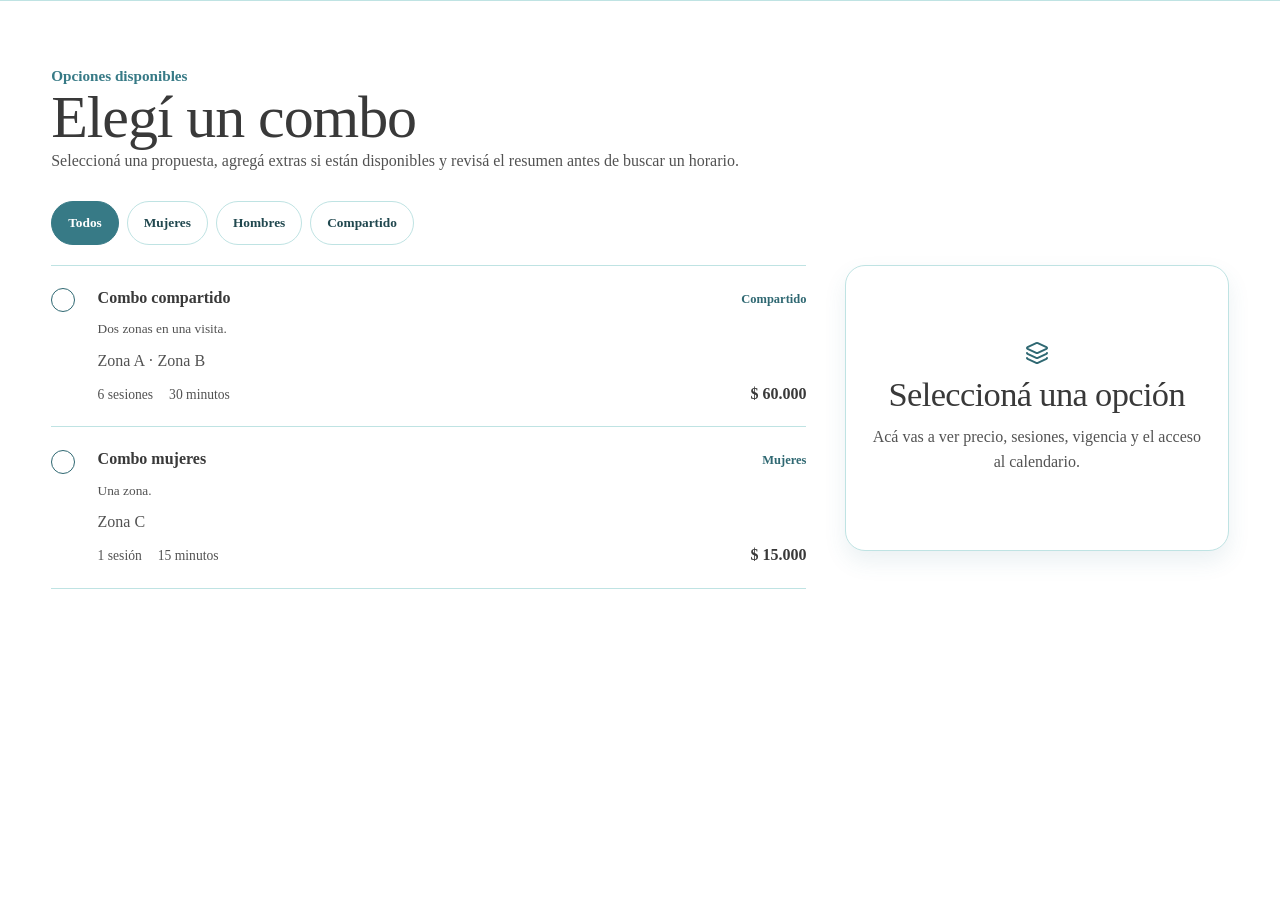
Test: TreatmentComboSelector › filters one unified list and requires one closed combo
The image size is (1280, 900).
Expected: the text "Combo compartido" is shown, [98,286,230,310]
Expected: the text "Combo mujeres" is shown, [98,447,206,472]
Click the button "Compartido". click: click(362, 223)
box: [310,201,414,245]
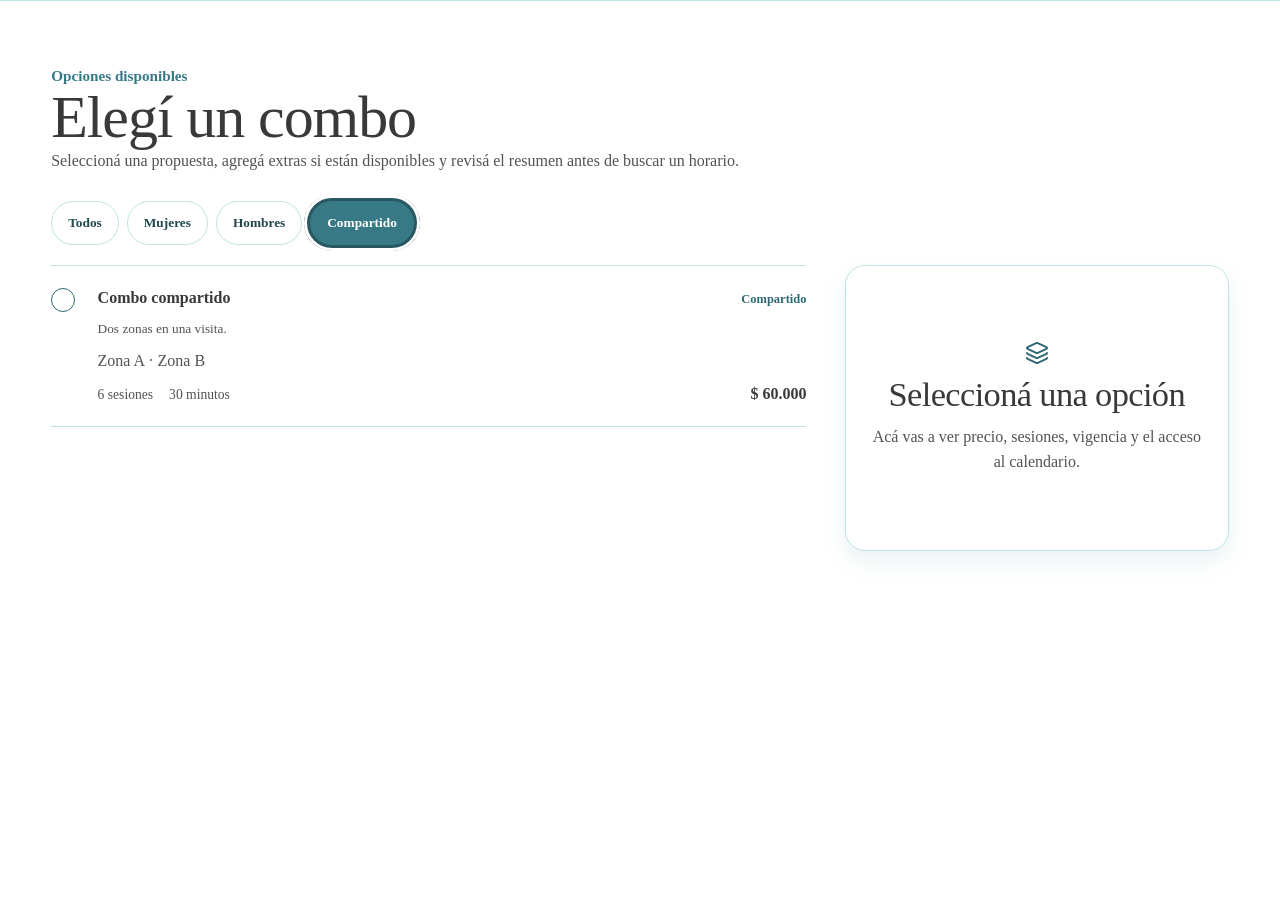
Expected: the text "Combo mujeres" is gone
Click the radio button labelled "Combo compartido". click: click(164, 297)
box: [51,266,806,427]
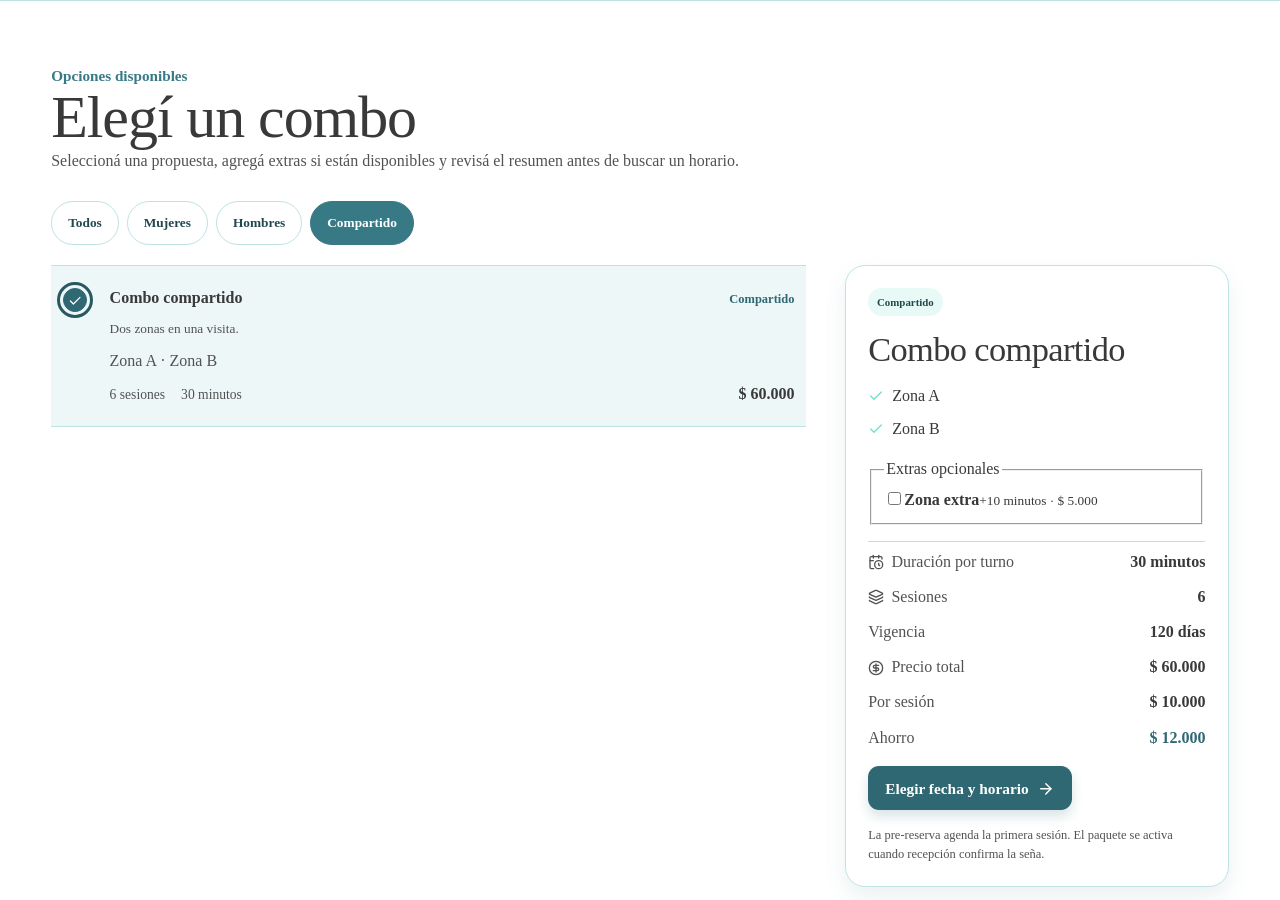
Expected: the text "$ 60.000" is shown 2 times, [738,382,794,406]; [1149,655,1205,680]
Expected: the text "$ 12.000" is shown, [1149,726,1205,750]
